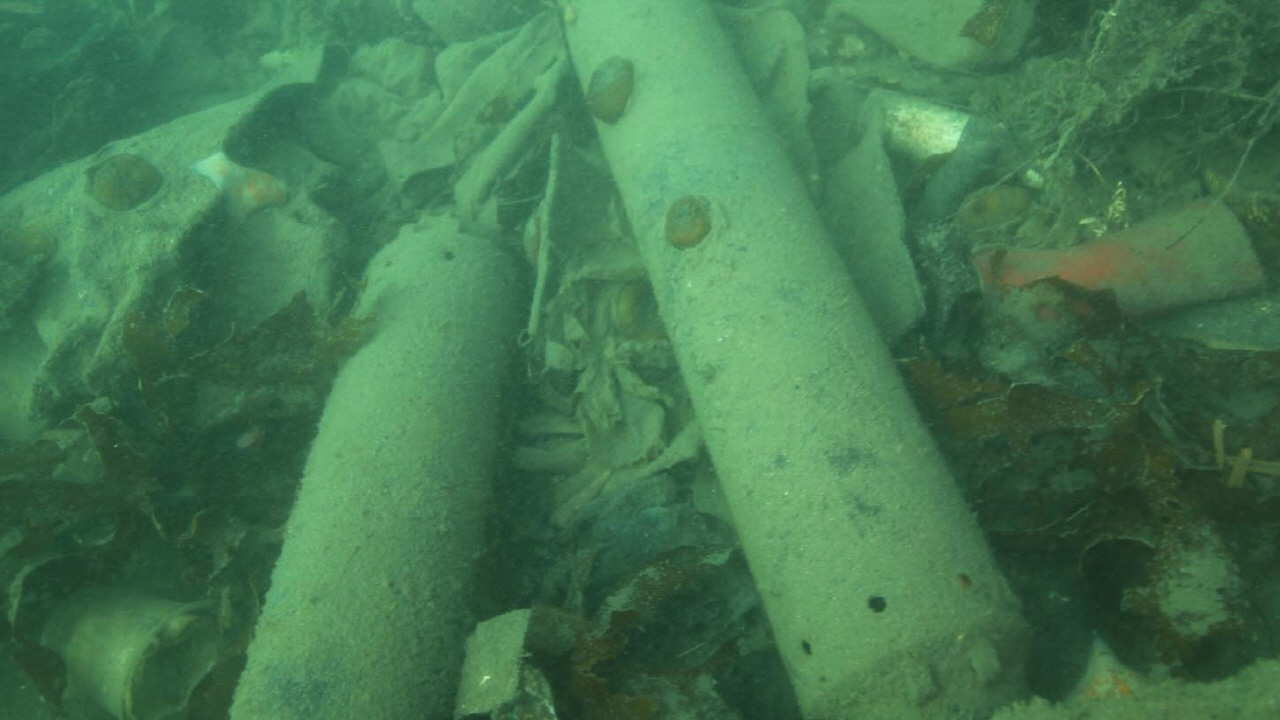eel fish trap: (561, 1, 1031, 718), (226, 217, 523, 720)
